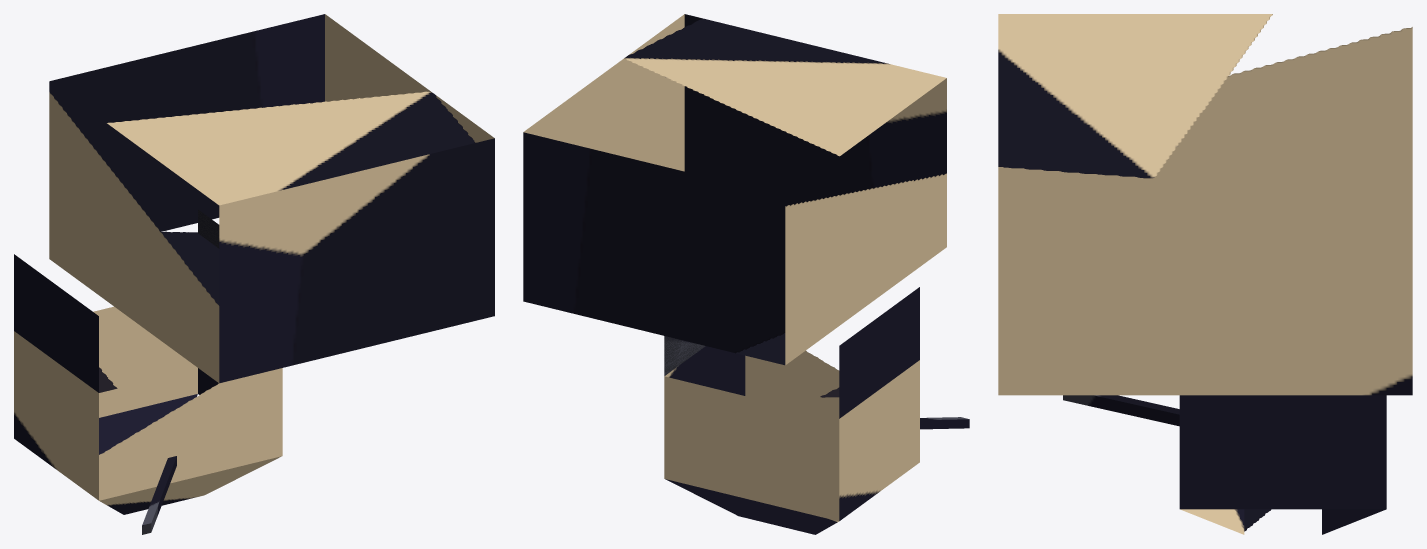
File: ss8_sandbox_front_lh.obj
3 renders of one model, left to right at view 1: azimuth 30°, elevation 25°; view 2: azimuth 150°, elevation 25°; view 3: azimuth 270°, elevation 25°, orthographic. The views are drawn at different scales.
Parts seen in each view (by area): view 1: cube_selection_selection_selection_selection; view 2: cube_selection_selection_selection_selection; view 3: cube_selection_selection_selection_selection.
Part boxes in pixels (bbox=[...]): cube_selection_selection_selection_selection: bbox=[14, 14, 494, 534]; cube_selection_selection_selection_selection: bbox=[523, 14, 969, 534]; cube_selection_selection_selection_selection: bbox=[998, 14, 1412, 534].
Size of the model in its own units: 1.11 by 1.25 by 1.
